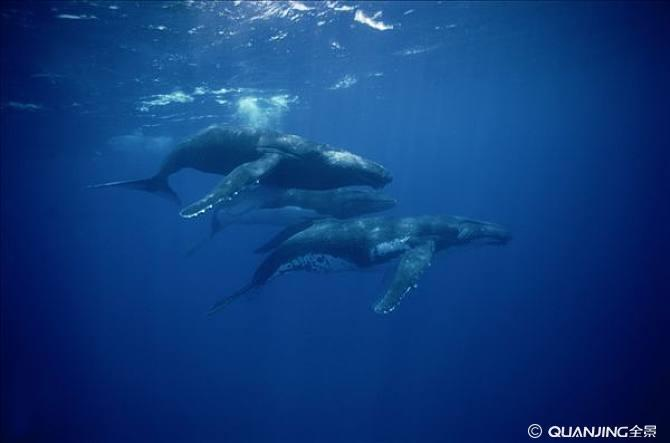fish: (204, 214, 510, 317), (85, 120, 394, 212), (190, 181, 401, 253)
